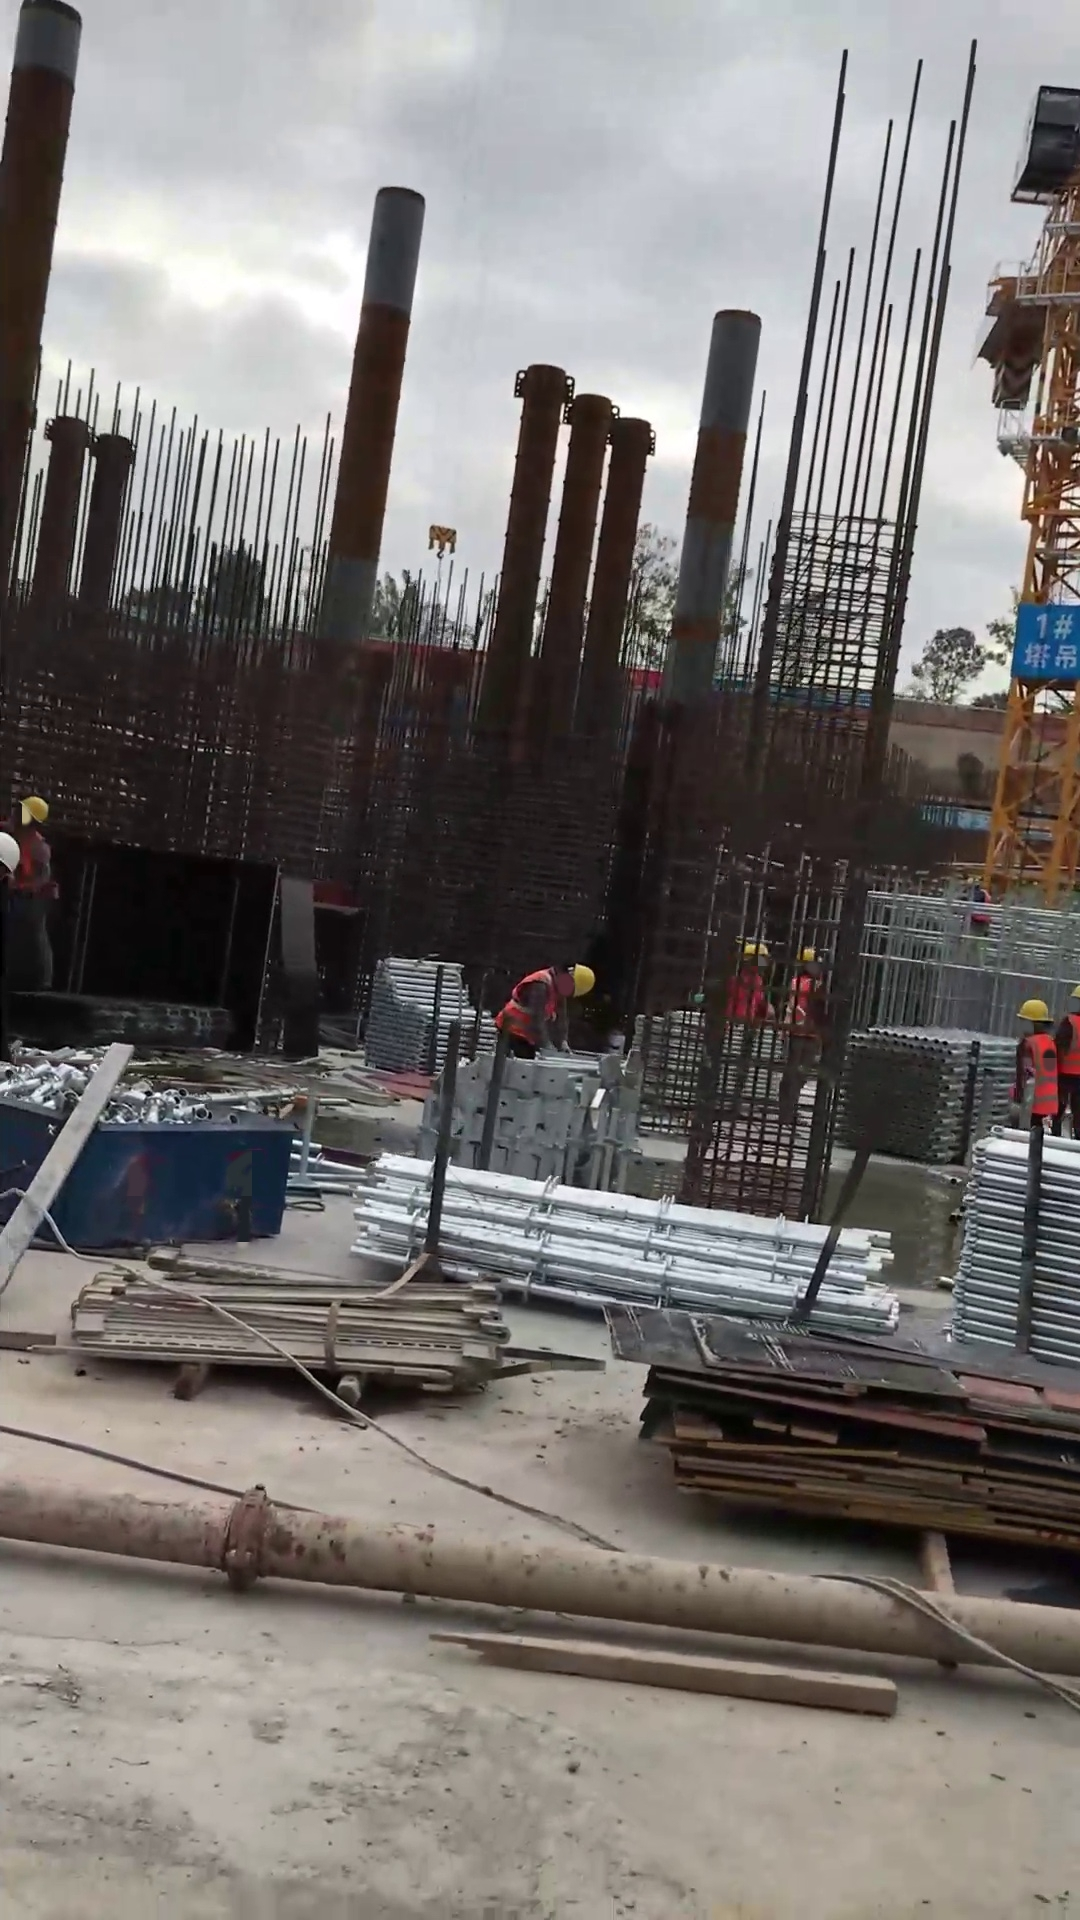helmet: (1, 827, 27, 878), (1015, 998, 1055, 1028), (568, 961, 597, 1002), (20, 793, 51, 825), (741, 939, 770, 967), (788, 945, 824, 968)
person: (10, 791, 65, 994), (495, 959, 597, 1060), (778, 943, 827, 1131), (1010, 995, 1063, 1137), (1057, 976, 1080, 1137)
vest: (495, 964, 561, 1046), (1014, 1029, 1059, 1122), (781, 971, 822, 1039), (12, 828, 48, 896), (722, 968, 765, 1023), (1061, 1008, 1080, 1076)
